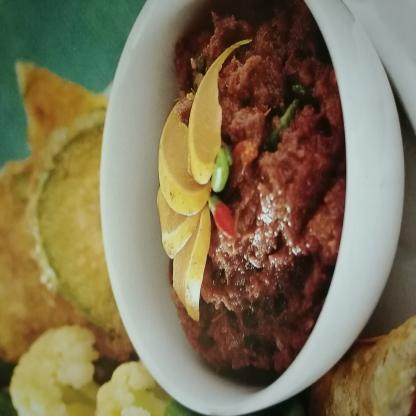Namprig: (128, 15, 357, 398)
